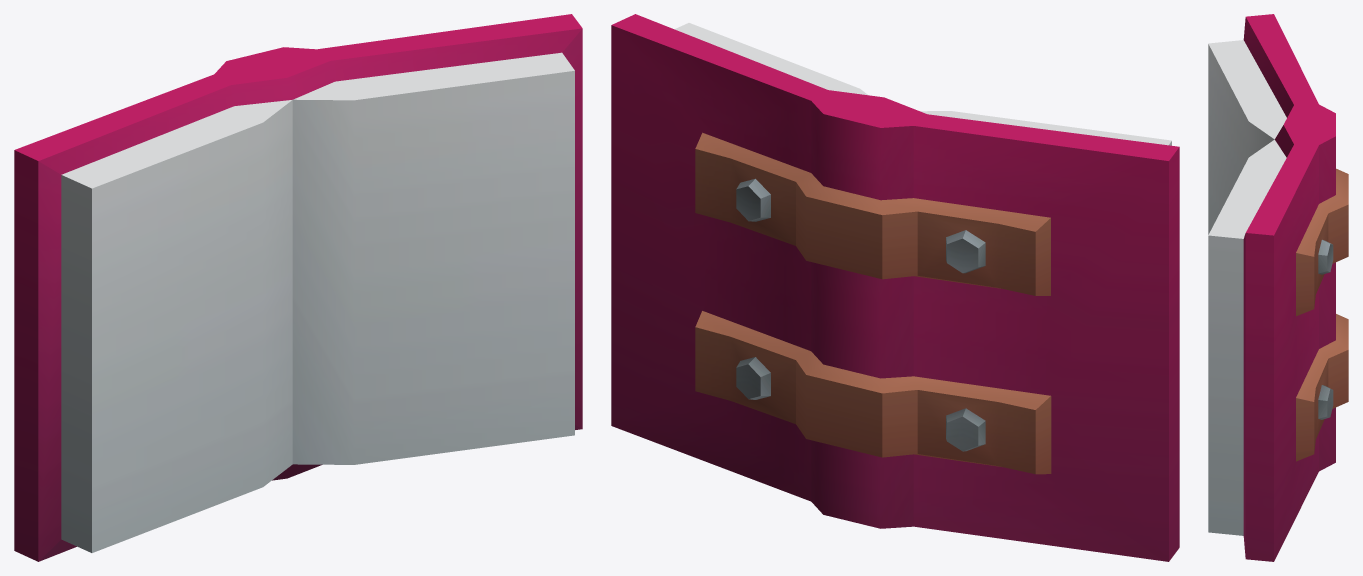
The model's file is spellbook_open.glb.
3 views of the same model, side by side, from view 1: azimuth 30°, elevation 25°; view 2: azimuth 150°, elevation 25°; view 3: azimuth 270°, elevation 25° (orthographic). The views are drawn at different scales.
Visible parts, largest first — view 1: spellbook_open; view 2: spellbook_open; view 3: spellbook_open.
Boxes of the visible parts, box(x1,y1,x2,y2) form: spellbook_open: box(14, 14, 582, 561); spellbook_open: box(611, 14, 1179, 561); spellbook_open: box(1208, 14, 1348, 561).
Bounding box in the file's own units: 0.8282 × 0.5688 × 0.2219.
1 material, 1 textured.
